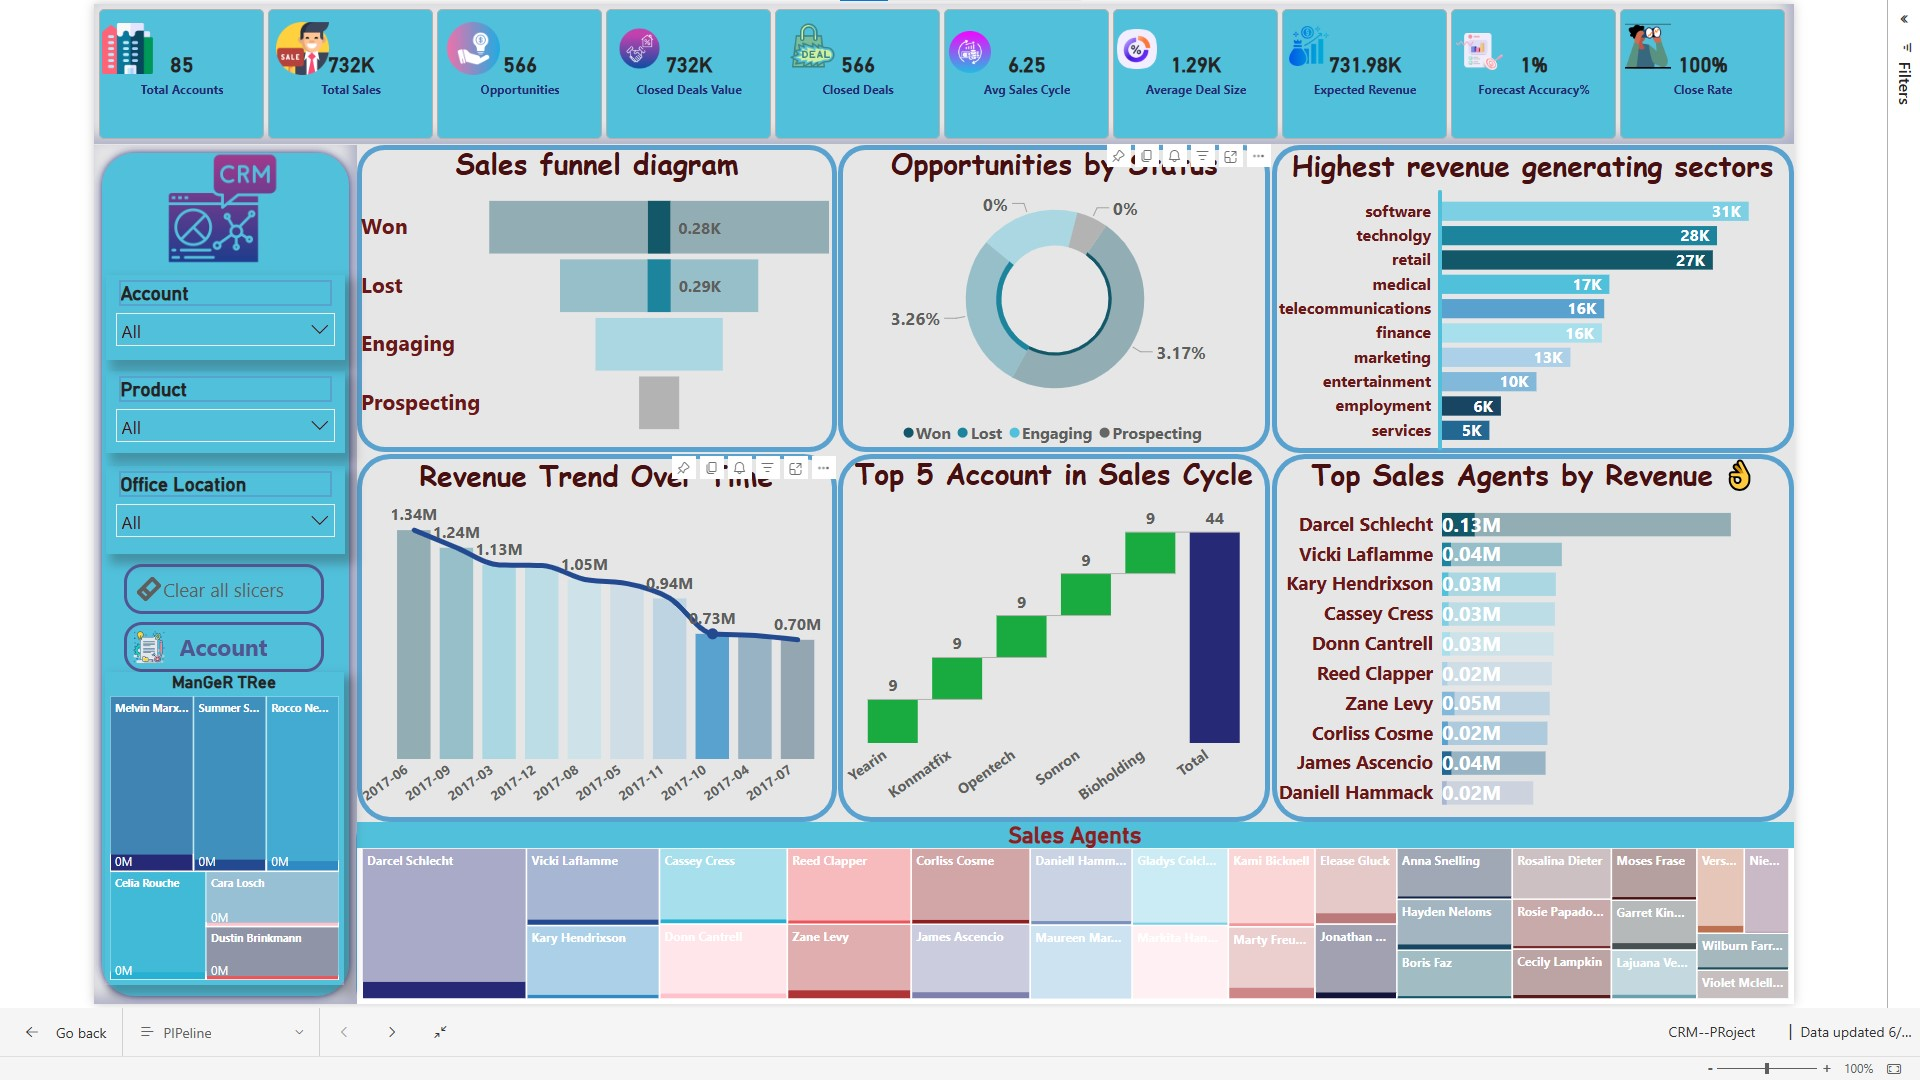

The page's visual inventory and layout, read from the dashboard file:
{"tool":"powerbi","page":{"name":"PIPeline","canvas":[1700,1000],"ordinal":0},"visuals":[{"type":"shape","box":[0,141.5,263.4,858.5],"z":0},{"type":"shape","box":[744.3,140.9,431.6,306.8],"z":1000},{"type":"shape","box":[263.4,450,479.3,368.3],"z":2000},{"type":"shape","box":[262.8,140.9,480.1,306.8],"z":3000},{"type":"shape","box":[743.9,450,432,368.3],"z":4000},{"type":"shape","box":[1178,141.5,522,307.3],"z":5000},{"type":"shape","box":[1178,450,522,368.3],"z":6000},{"type":"shape","box":[264.2,819.2,1435.8,181.2],"z":7000},{"type":"cardVisual","fields":{"Data":["Calendar.Total Accounts","Calendar.Total Sales","Calendar.Total Opportunities","Calendar.Closed Deals Value","Calendar.Closed Deals","Calendar.Avg Sales Cycle","Calendar.Average Deal Size","Calendar.Expected Revenue","Calendar.Forecast Accuracy %","Calendar.Close Rate"]},"box":[0,0,1700,140.2],"z":8000},{"type":"funnel","title":"Sales funnel diagram","fields":{"Category":["sales_pipeline.Deal Stage"],"Y":["CountNonNull(sales_pipeline.Opportunity Id)"]},"box":[262.3,138.9,482.4,309.1],"z":9000},{"type":"barChart","title":"Highest revenue generating sectors","fields":{"Y":["Subsidiary Of.Total Revenue by Sector"],"Category":["Subsidiary Of.Sector"]},"box":[1178,141.5,522,309.8],"z":10000},{"type":"donutChart","title":"Opportunities by Status","fields":{"Category":["sales_pipeline.Deal Stage"],"Y":["CountNonNull(sales_pipeline.Opportunity Id)"]},"box":[743.9,139,434.1,309.8],"z":11000},{"type":"clusteredBarChart","title":"Top Sales Agents by Revenue 👌 ","fields":{"Category":["sales_pipeline.Sales Agent"],"Y":["Sum(sales_pipeline.Close Value)"]},"box":[1178,450,522,368.3],"z":12000},{"type":"lineStackedColumnComboChart","title":"Revenue Trend Over Time","fields":{"Category":["sales_pipeline.Close-Month"],"Y":["Calendar.Closed Deals Value"],"Y2":["Calendar.Total Sales"]},"box":[262.3,451.1,480.8,366.9],"z":13000},{"type":"waterfallChart","title":"Top 5 Account in Sales Cycle","fields":{"Category":["sales_pipeline.Account"],"Y":["Calendar.Avg Sales Cycle"]},"box":[742.7,448.8,435.4,369.5],"z":14000},{"type":"shape","box":[262.3,818,1437.7,182.6],"z":15000},{"type":"treemap","title":"Sales Agents","fields":{"Group":["sales_pipeline.Sales Agent"],"Values":["Sum(sales_pipeline.Close Value)"]},"box":[262.8,817.7,1437.2,182],"z":16000},{"type":"slicer","fields":{"Values":["sales_pipeline.Account"]},"box":[12.2,271.1,239.3,85.1],"z":17000},{"type":"slicer","fields":{"Values":["sales_pipeline.Product"]},"box":[12.2,366.6,239.3,82.2],"z":18000},{"type":"slicer","fields":{"Values":["Subsidiary Of.Office Location"]},"box":[12.2,462,239.3,88.1],"z":19000},{"type":"actionButton","box":[30.5,559.5,200,50],"z":21000},{"type":"actionButton","box":[30.5,618.1,200,50],"z":22000},{"type":"treemap","title":"ManGeR TRee","fields":{"Group":["sales_teams.Manager"],"Values":["Sum(sales_pipeline.Close Value)"]},"box":[10.7,668,239.6,313.2],"z":23000},{"type":"image","box":[10.4,138,240.3,130.5],"z":23001},{"type":"image","box":[3,3,60.8,81.6],"z":23002},{"type":"image","box":[172.1,13.4,72.7,62.3],"z":23003},{"type":"image","box":[344.2,13.4,71.2,62.3],"z":23004},{"type":"image","box":[510.3,19.3,71.2,50.4],"z":23005},{"type":"image","box":[676.4,13.4,86,56.4],"z":23006},{"type":"image","box":[850,19.3,51.9,56.4],"z":23007},{"type":"image","box":[1017.6,13.4,50.4,62.3],"z":23008},{"type":"image","box":[1189.7,13.4,50.4,56.4],"z":23009},{"type":"image","box":[1357.3,19.3,56.4,56.4],"z":23010},{"type":"image","box":[1525.8,12.8,56.4,57.6],"z":23011}]}

Visuals, with their boxes on the page's 1700x1000 design canvas (x1, y1, x2, y2). These are canvas units, not pixel positions in the 1920x1080 screenshot, which may show the page scaled, cropped or inside an application window:
shape: [0, 142, 263, 1000]
shape: [744, 141, 1176, 448]
shape: [263, 450, 743, 818]
shape: [263, 141, 743, 448]
shape: [744, 450, 1176, 818]
shape: [1178, 142, 1700, 449]
shape: [1178, 450, 1700, 818]
shape: [264, 819, 1700, 1000]
cardVisual - Calendar.Total Accounts x Calendar.Total Sales: [0, 0, 1700, 140]
"Sales funnel diagram" funnel: [262, 139, 745, 448]
"Highest revenue generating sectors" barChart: [1178, 142, 1700, 451]
"Opportunities by Status" donutChart: [744, 139, 1178, 449]
"Top Sales Agents by Revenue 👌 " clusteredBarChart: [1178, 450, 1700, 818]
"Revenue Trend Over Time" lineStackedColumnComboChart: [262, 451, 743, 818]
"Top 5 Account in Sales Cycle" waterfallChart: [743, 449, 1178, 818]
shape: [262, 818, 1700, 1001]
"Sales Agents" treemap: [263, 818, 1700, 1000]
slicer - sales_pipeline.Account: [12, 271, 252, 356]
slicer - sales_pipeline.Product: [12, 367, 252, 449]
slicer - Subsidiary Of.Office Location: [12, 462, 252, 550]
actionButton: [30, 560, 230, 610]
actionButton: [30, 618, 230, 668]
"ManGeR TRee" treemap: [11, 668, 250, 981]
image: [10, 138, 251, 268]
image: [3, 3, 64, 85]
image: [172, 13, 245, 76]
image: [344, 13, 415, 76]
image: [510, 19, 582, 70]
image: [676, 13, 762, 70]
image: [850, 19, 902, 76]
image: [1018, 13, 1068, 76]
image: [1190, 13, 1240, 70]
image: [1357, 19, 1414, 76]
image: [1526, 13, 1582, 70]
